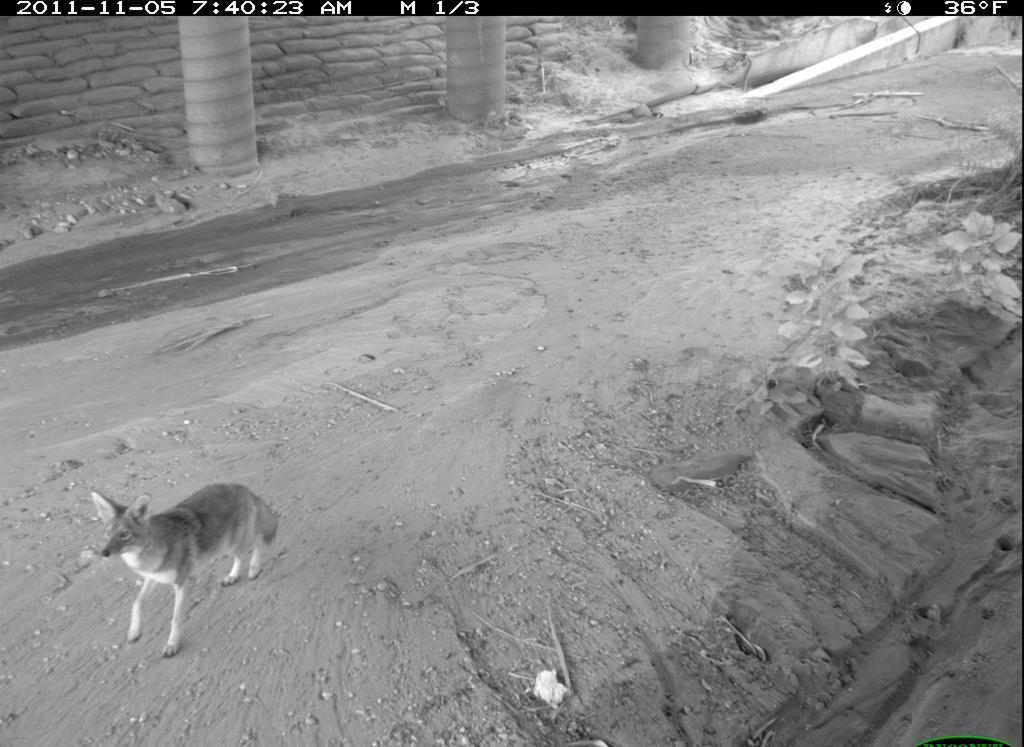coyote: (77, 472, 294, 665)
